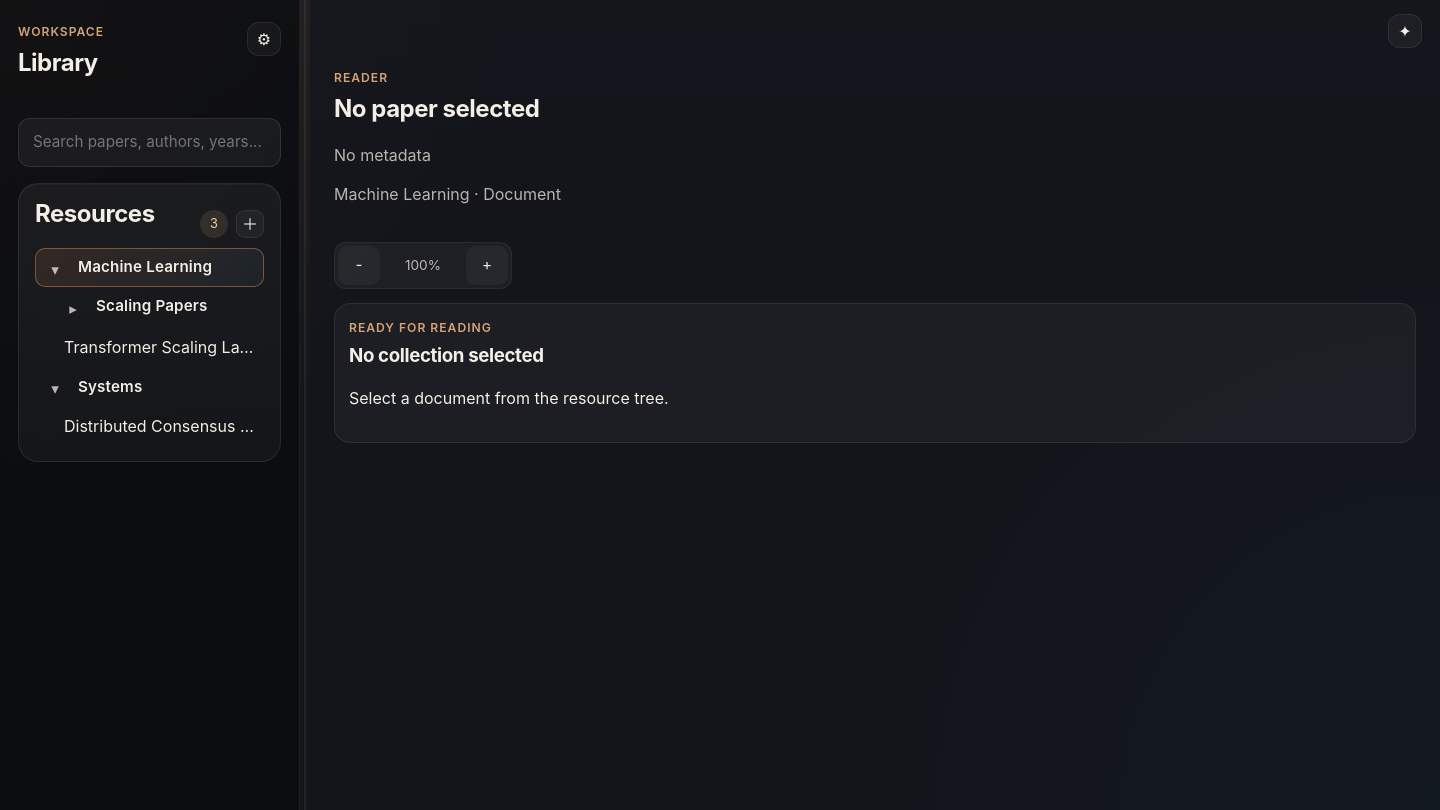
Test: App reading workspace › recursively deletes a collection subtree from the resource tree
Right-click the list item "Machine Learning" at (150, 268), box left=35, top=248, right=264, bottom=287
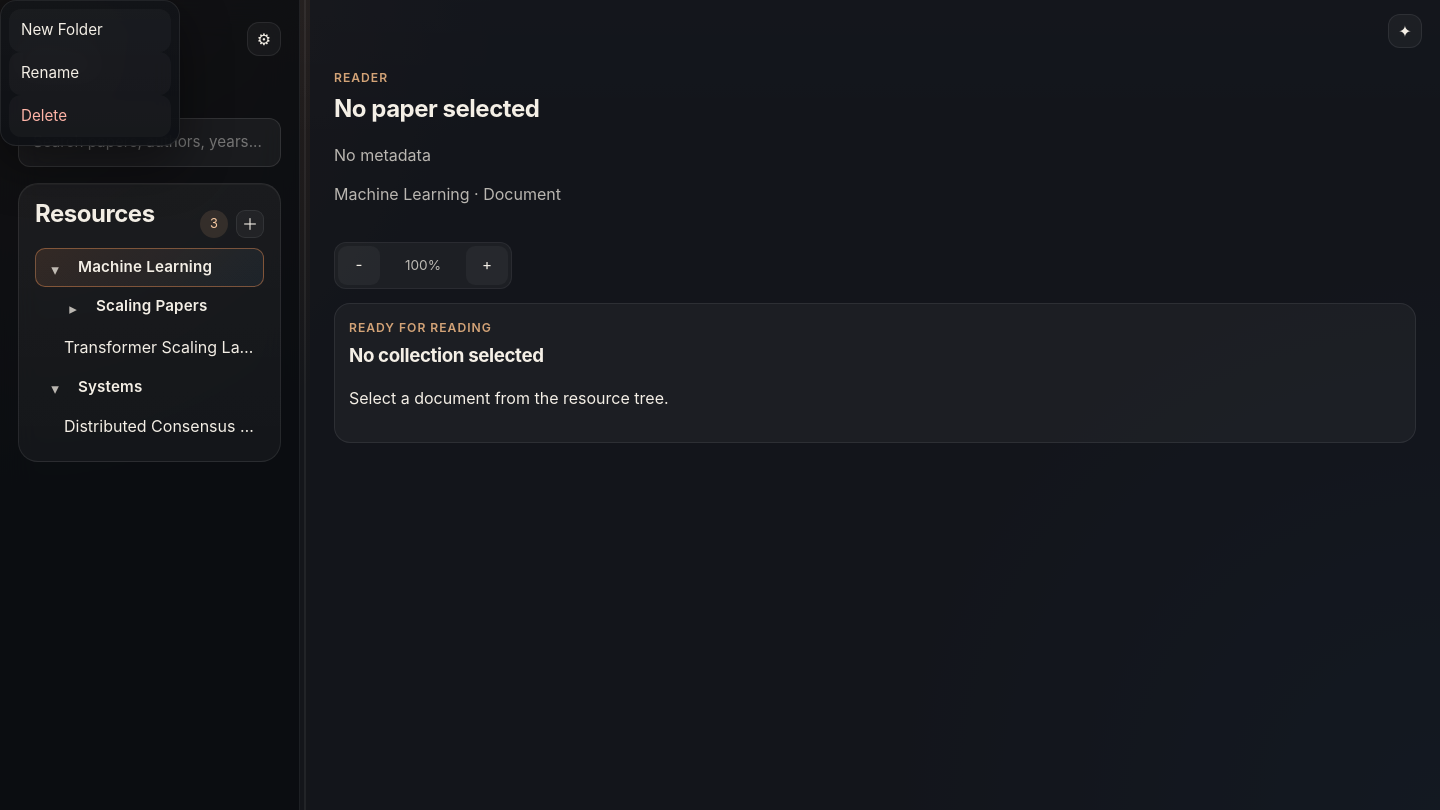
Click the menu item "Delete" at (90, 116), box left=9, top=95, right=171, bottom=137
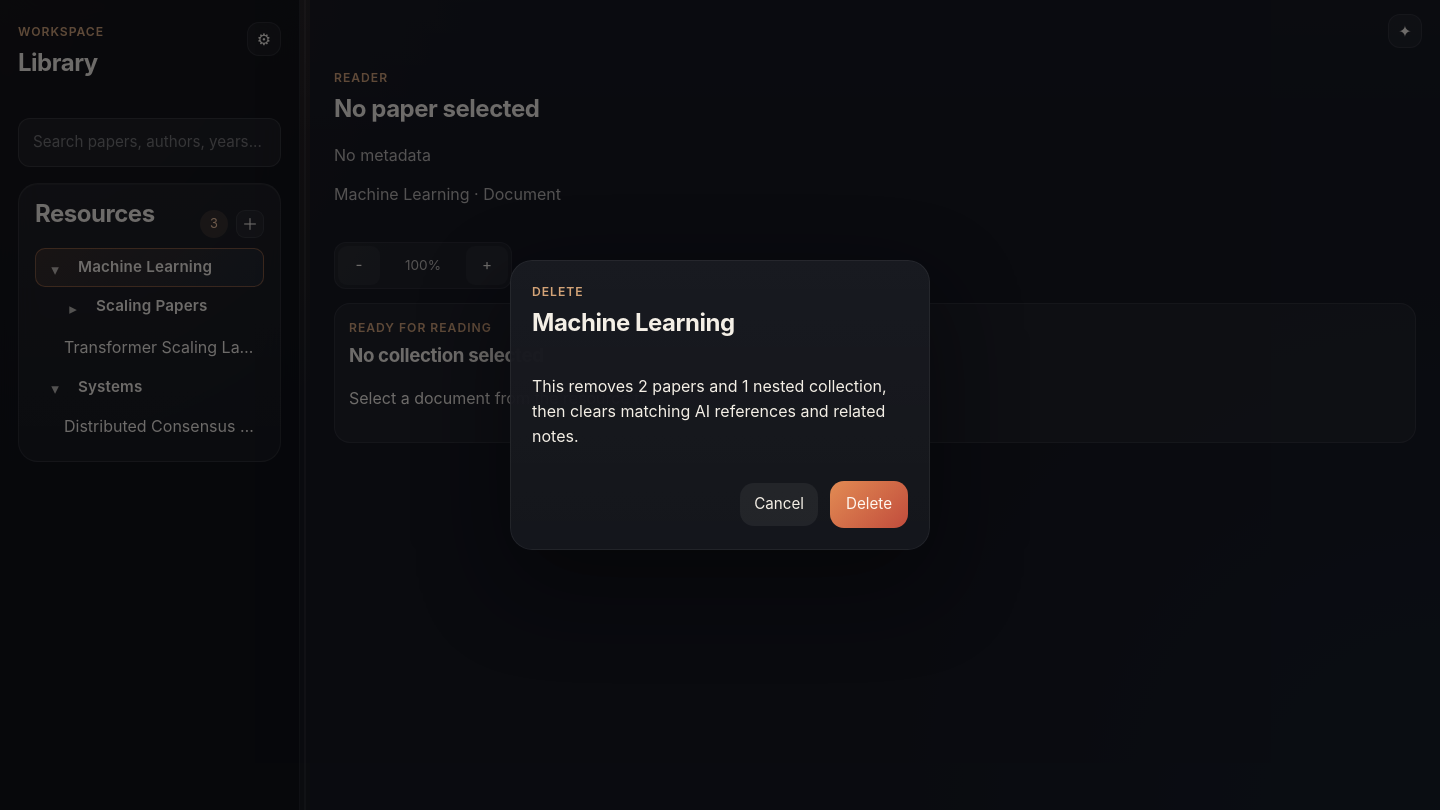
Expected: the text "1 nested collection" is shown, left=532, top=376, right=887, bottom=446
Click the button "Delete" at (869, 505), box left=830, top=482, right=908, bottom=528
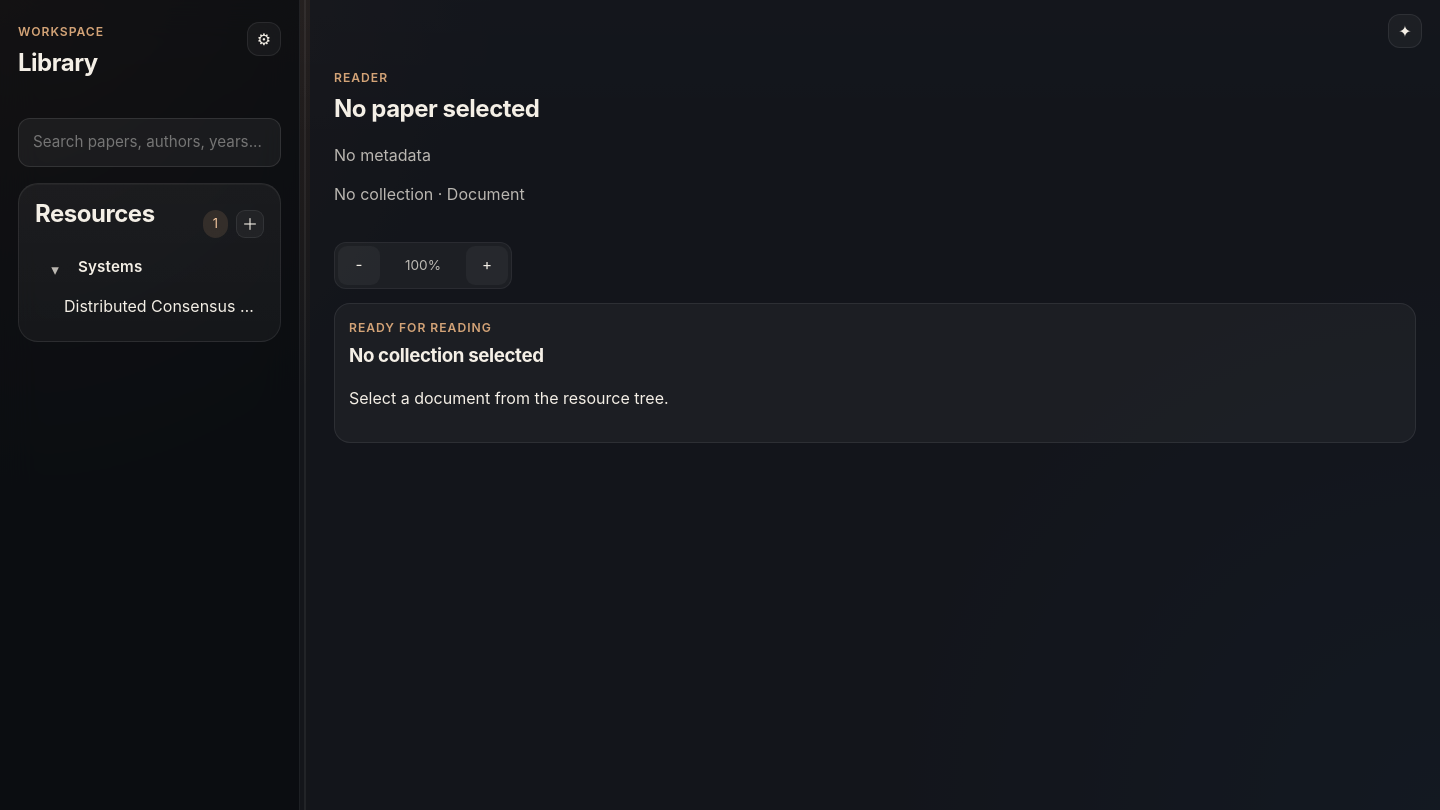
Expected: the button "Machine Learning" is gone
Expected: the button "Scaling Papers" is gone
Expected: the list item "Transformer Scaling Laws" is gone
